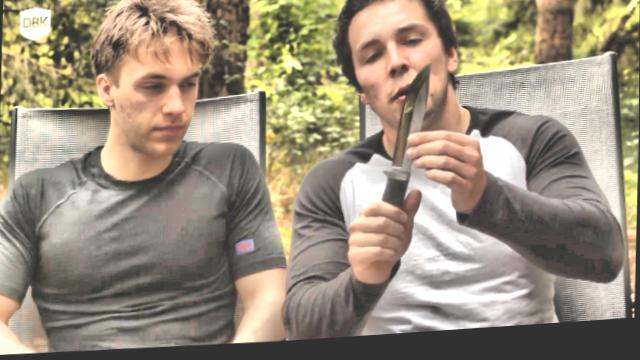knife: (353, 59, 437, 251)
